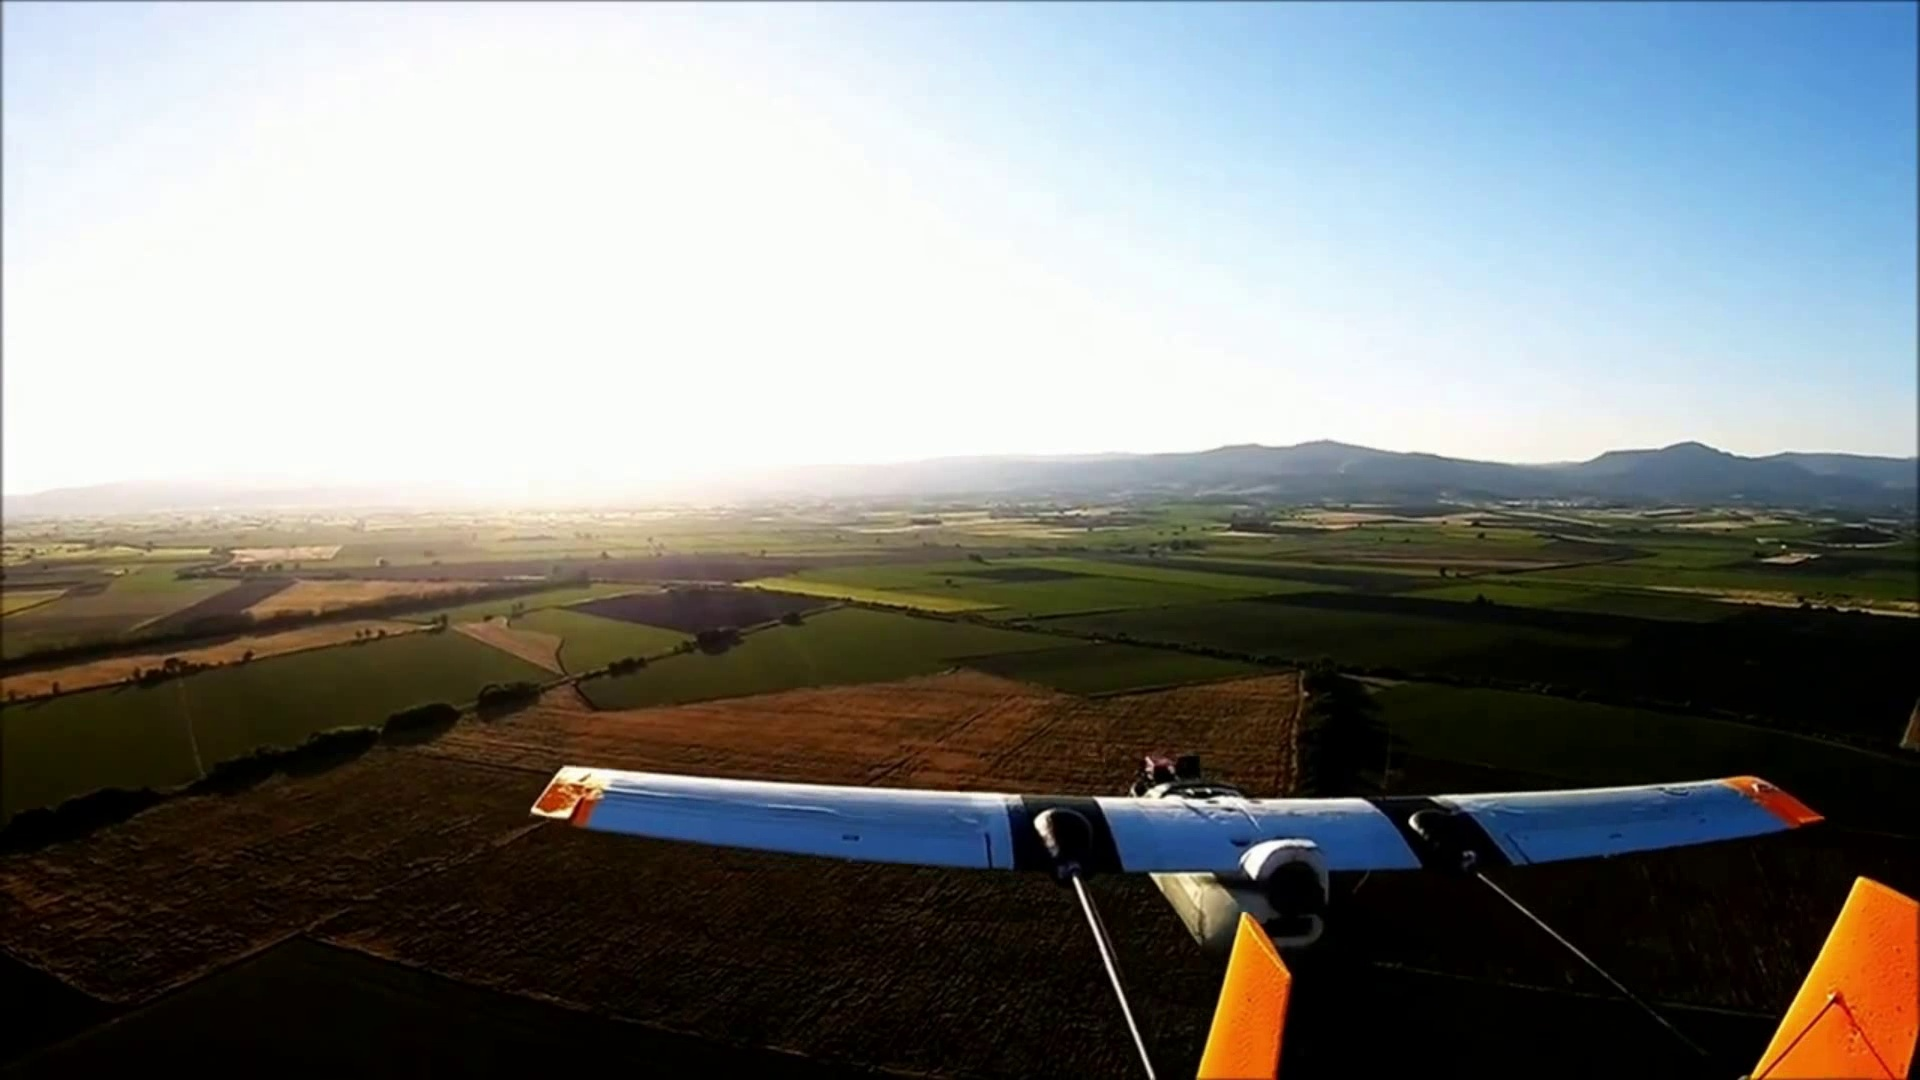airplane: (529, 760, 1838, 1068)
